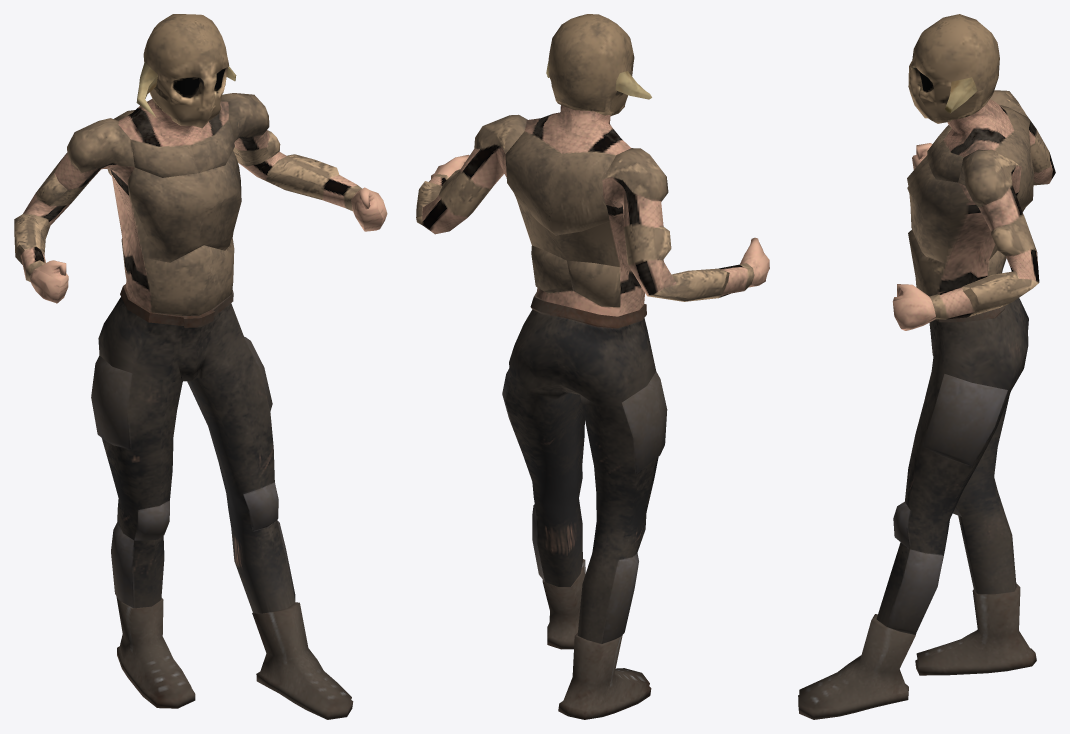
The model's file is Anim_ataque_d3_npc1.0050.obj.
3 renders of one model, left to right at view 1: azimuth 30°, elevation 25°; view 2: azimuth 150°, elevation 25°; view 3: azimuth 270°, elevation 25°, orthographic. The views are drawn at different scales.
Visible parts, largest first — view 1: NPC2; view 2: NPC2; view 3: NPC2.
Part boxes in pixels (<box>): NPC2: <box>14,14,387,719</box>; NPC2: <box>416,14,769,719</box>; NPC2: <box>798,14,1055,719</box>.
Bounding box in the file's own units: 5.08 × 9.66 × 3.4.
